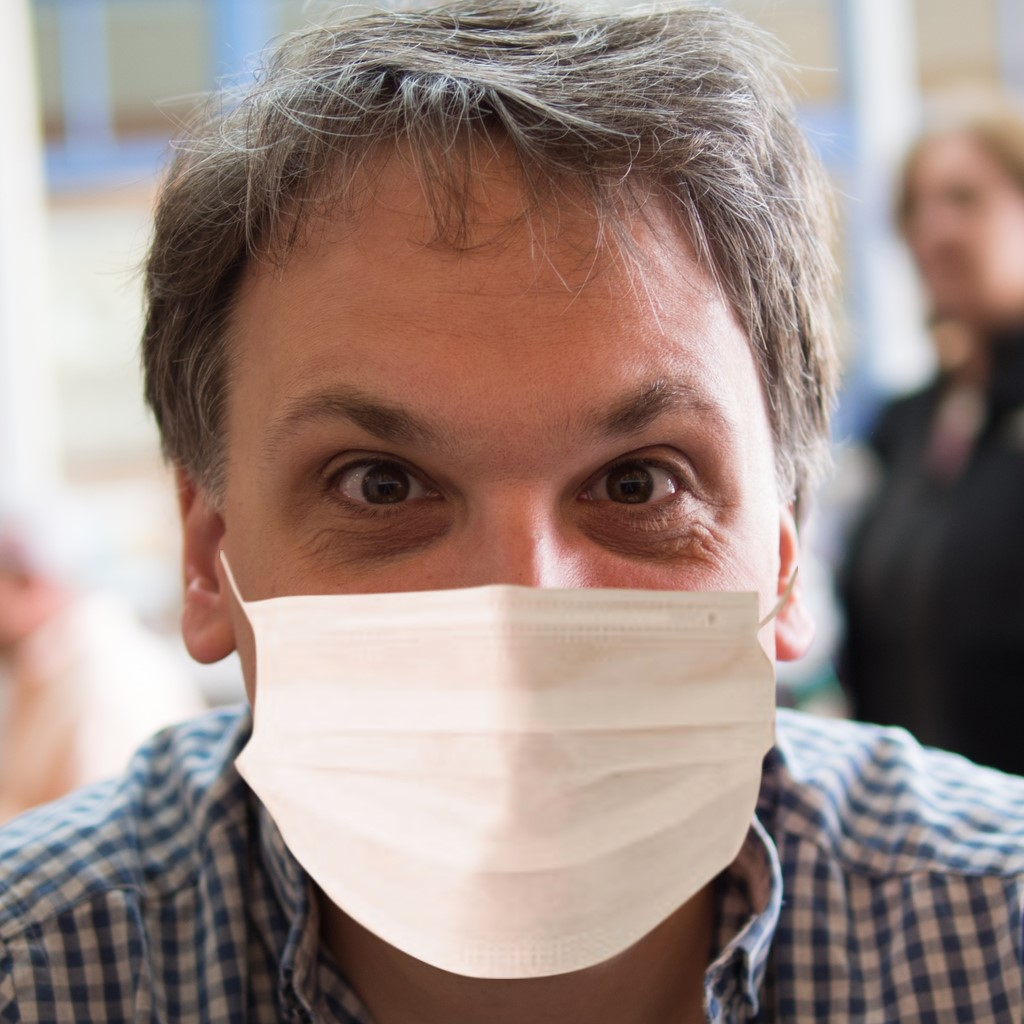con_mascara: (180, 114, 798, 955)
